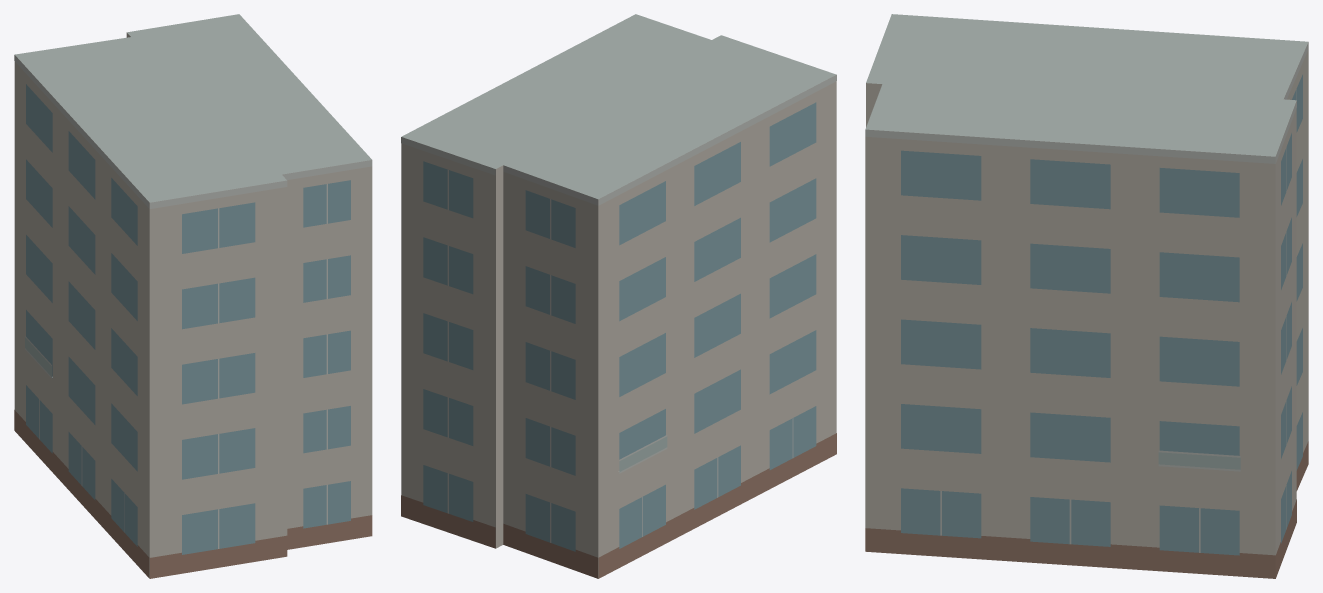
Rendered from survey-upis-32743875.glb.
The picture shows the model from 3 angles, left to right: view 1: azimuth 30°, elevation 25°; view 2: azimuth 150°, elevation 25°; view 3: azimuth 270°, elevation 25°; orthographic projection. The views are drawn at different scales.
Visible parts, largest first — view 1: survey-upis-32743875.tmp; view 2: survey-upis-32743875.tmp; view 3: survey-upis-32743875.tmp.
Boxes of the visible parts, x1,y1,x2,y2 form: survey-upis-32743875.tmp: (14, 14, 372, 578); survey-upis-32743875.tmp: (401, 14, 836, 578); survey-upis-32743875.tmp: (865, 14, 1308, 578).
Bounding box in the file's own units: 10.38 × 14.3 × 13.62.
